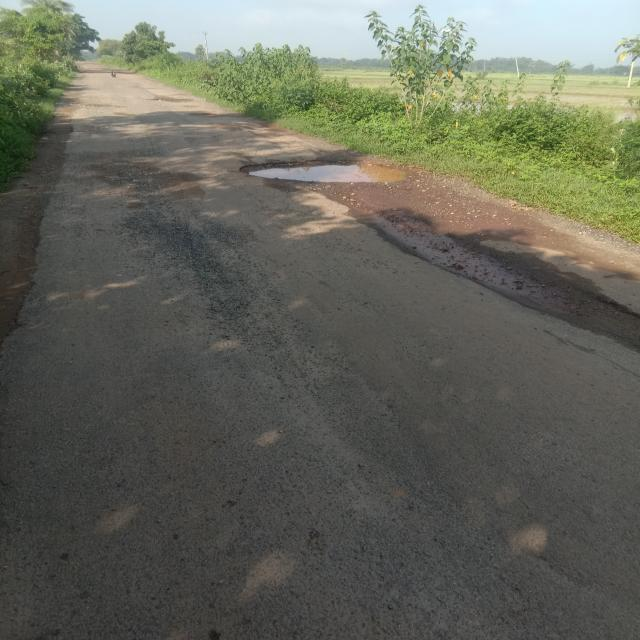cracks: (97, 197, 290, 368)
potholes: (355, 205, 640, 372), (237, 155, 418, 188)
